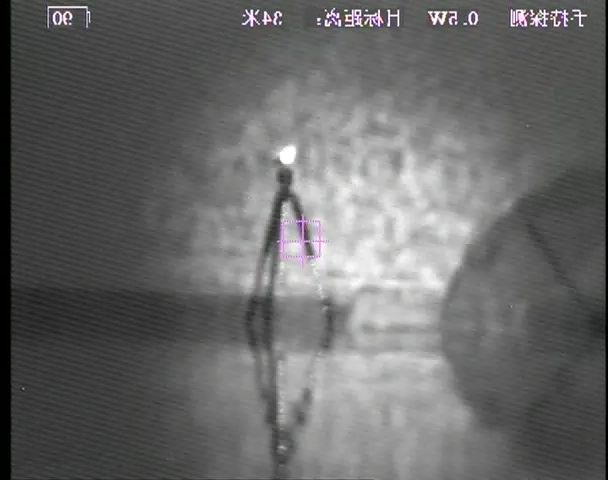my: (277, 142, 298, 166)
